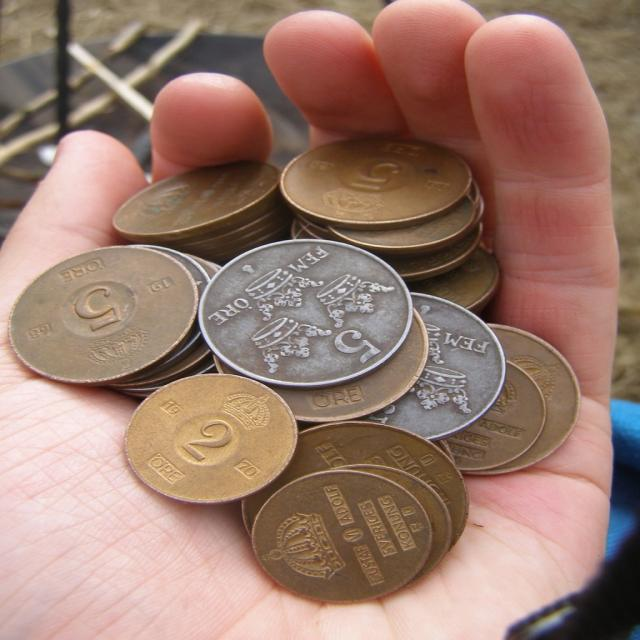Coin: (3, 133, 586, 604)
